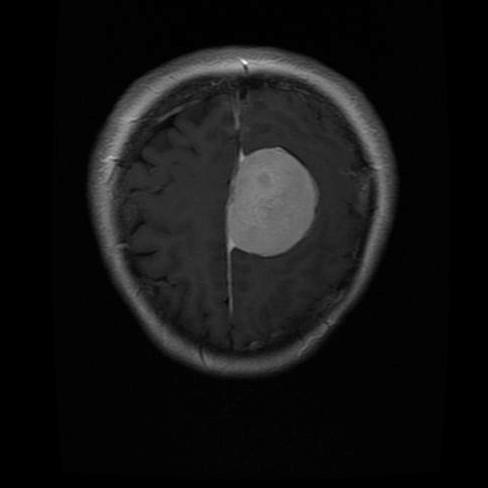Tumour-Meningioma: (209, 130, 345, 276)
